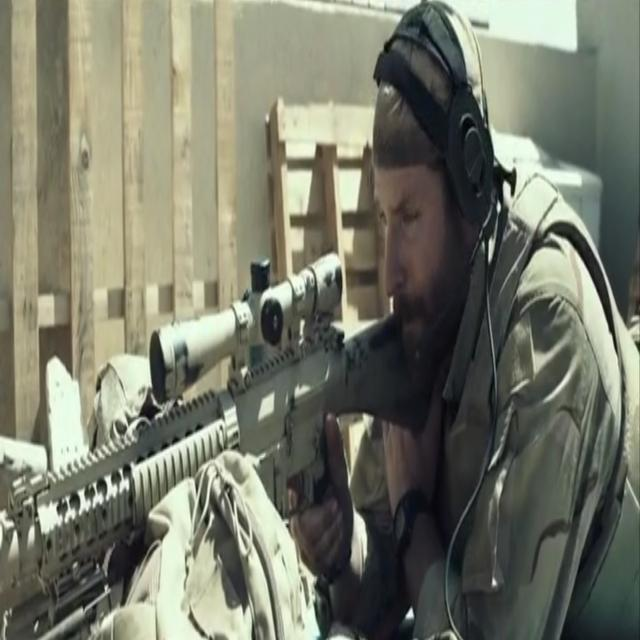rifle: (0, 225, 434, 613)
